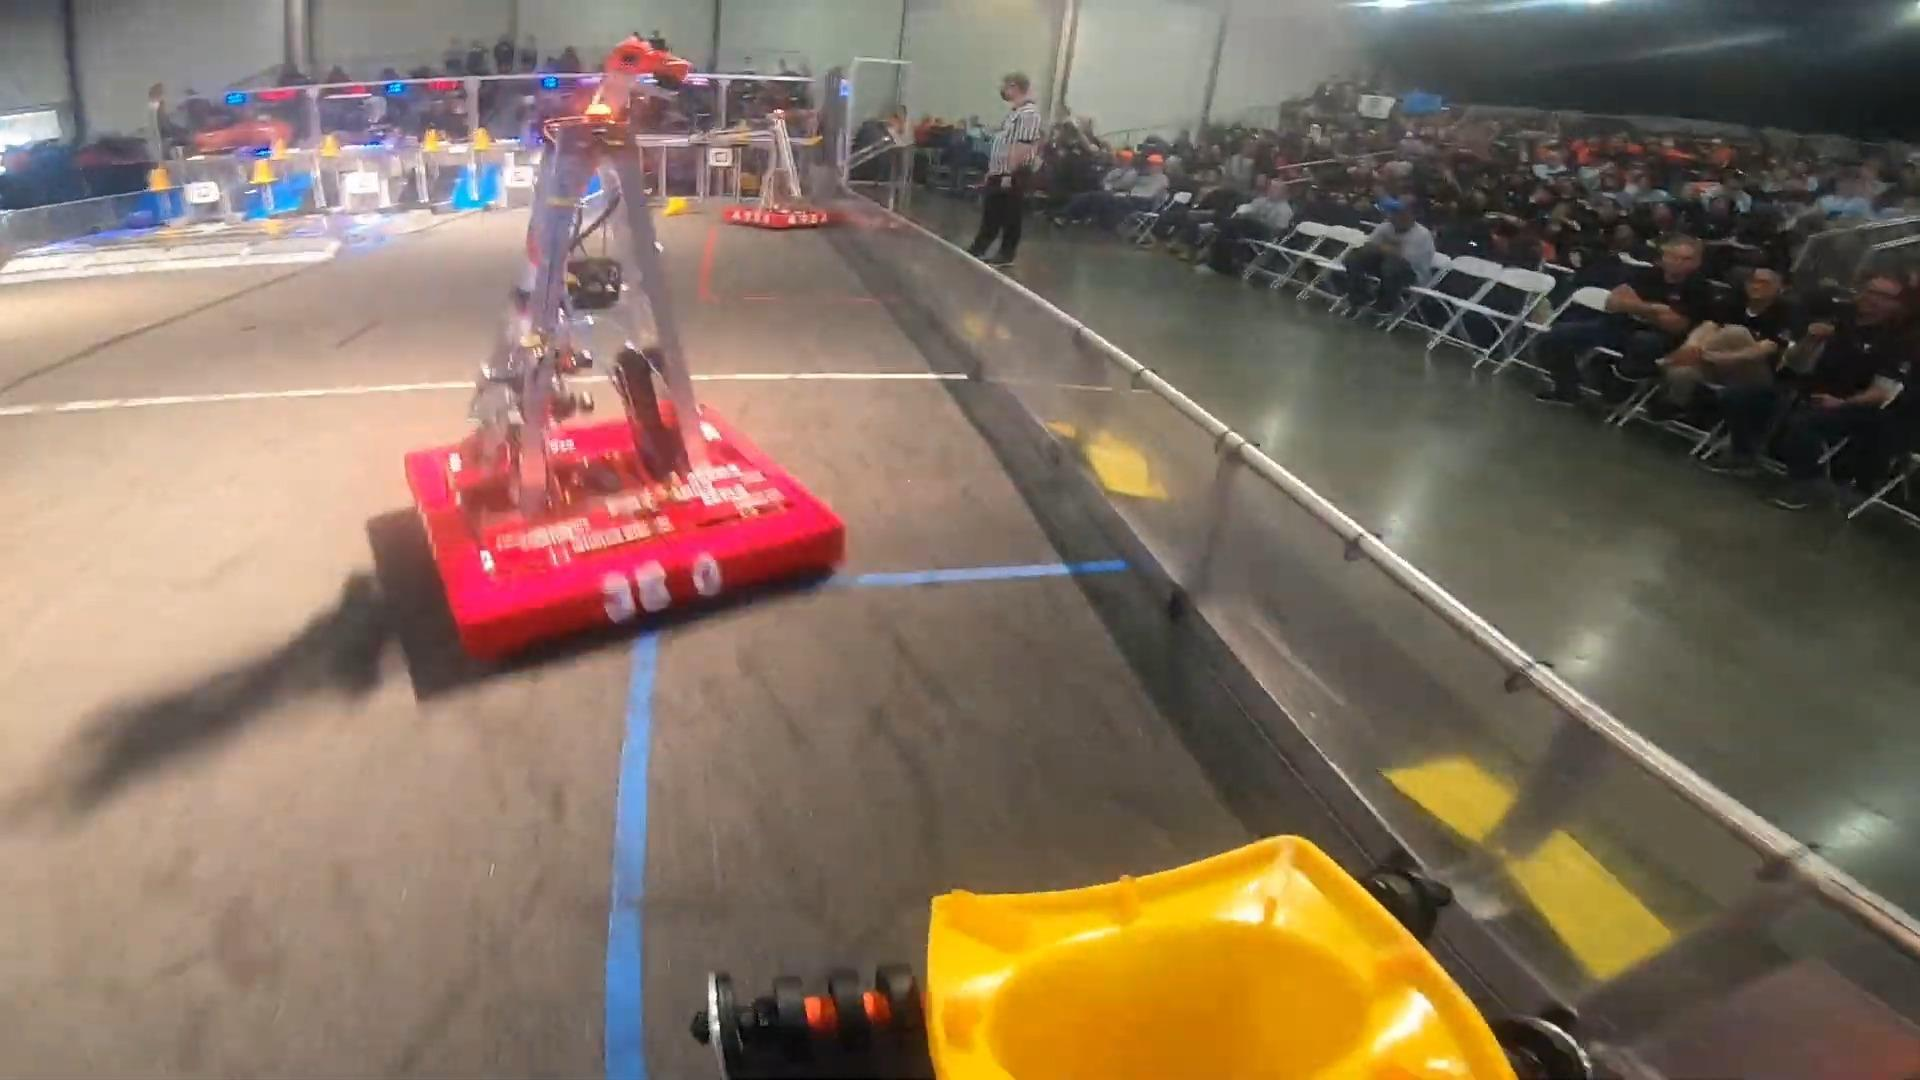robot: (405, 30, 843, 663), (723, 107, 836, 231)
